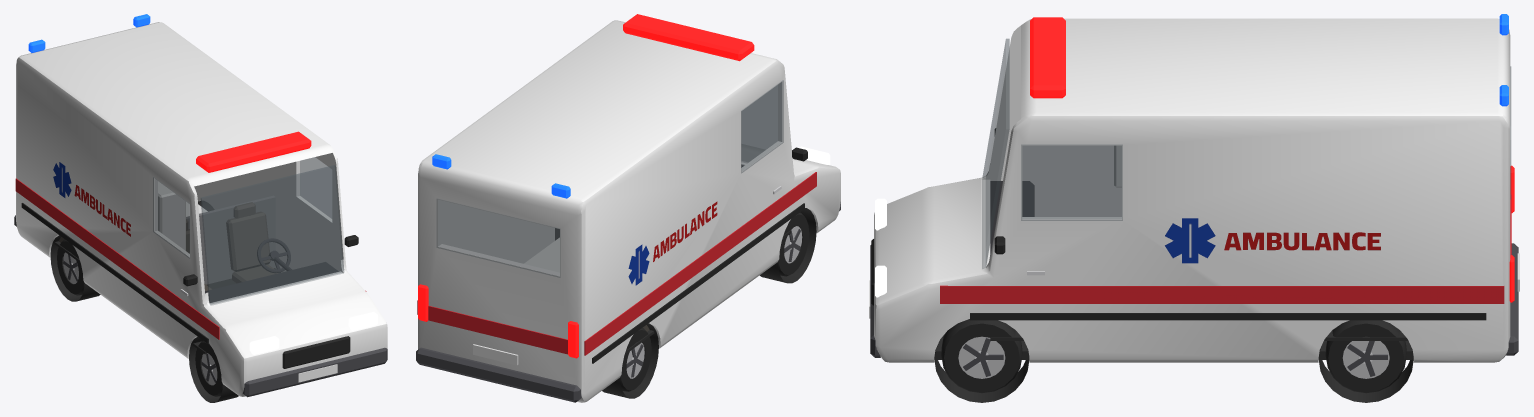
The model's file is ambulance_us.glb.
3 renders of one model, left to right at view 1: azimuth 30°, elevation 25°; view 2: azimuth 150°, elevation 25°; view 3: azimuth 270°, elevation 25°, orthographic. The views are drawn at different scales.
Parts seen in each view (by area): view 1: ambulance_us_body, glass, wheel_FR, wheel_RR, steering_wheel; view 2: ambulance_us_body, glass, wheel_FR, wheel_RR; view 3: ambulance_us_body, glass, wheel_FL, wheel_RL.
Boxes of the visible parts, left/top/right/bottom form: ambulance_us_body: left=14, top=14, right=387, bottom=402; glass: left=153, top=157, right=344, bottom=305; wheel_FR: left=195, top=340, right=222, bottom=396; wheel_RR: left=57, top=239, right=84, bottom=295; steering_wheel: left=257, top=238, right=290, bottom=273; ambulance_us_body: left=416, top=14, right=840, bottom=402; glass: left=436, top=80, right=783, bottom=277; wheel_FR: left=778, top=212, right=809, bottom=276; wheel_RR: left=620, top=328, right=651, bottom=391; ambulance_us_body: left=869, top=14, right=1519, bottom=402; glass: left=982, top=38, right=1511, bottom=268; wheel_FL: left=941, top=319, right=1022, bottom=393; wheel_RL: left=1325, top=320, right=1406, bottom=393.
Bounding box in the file's own units: 2.31 × 2.79 × 5.42.
Materials: 20 (1 with a texture image).
